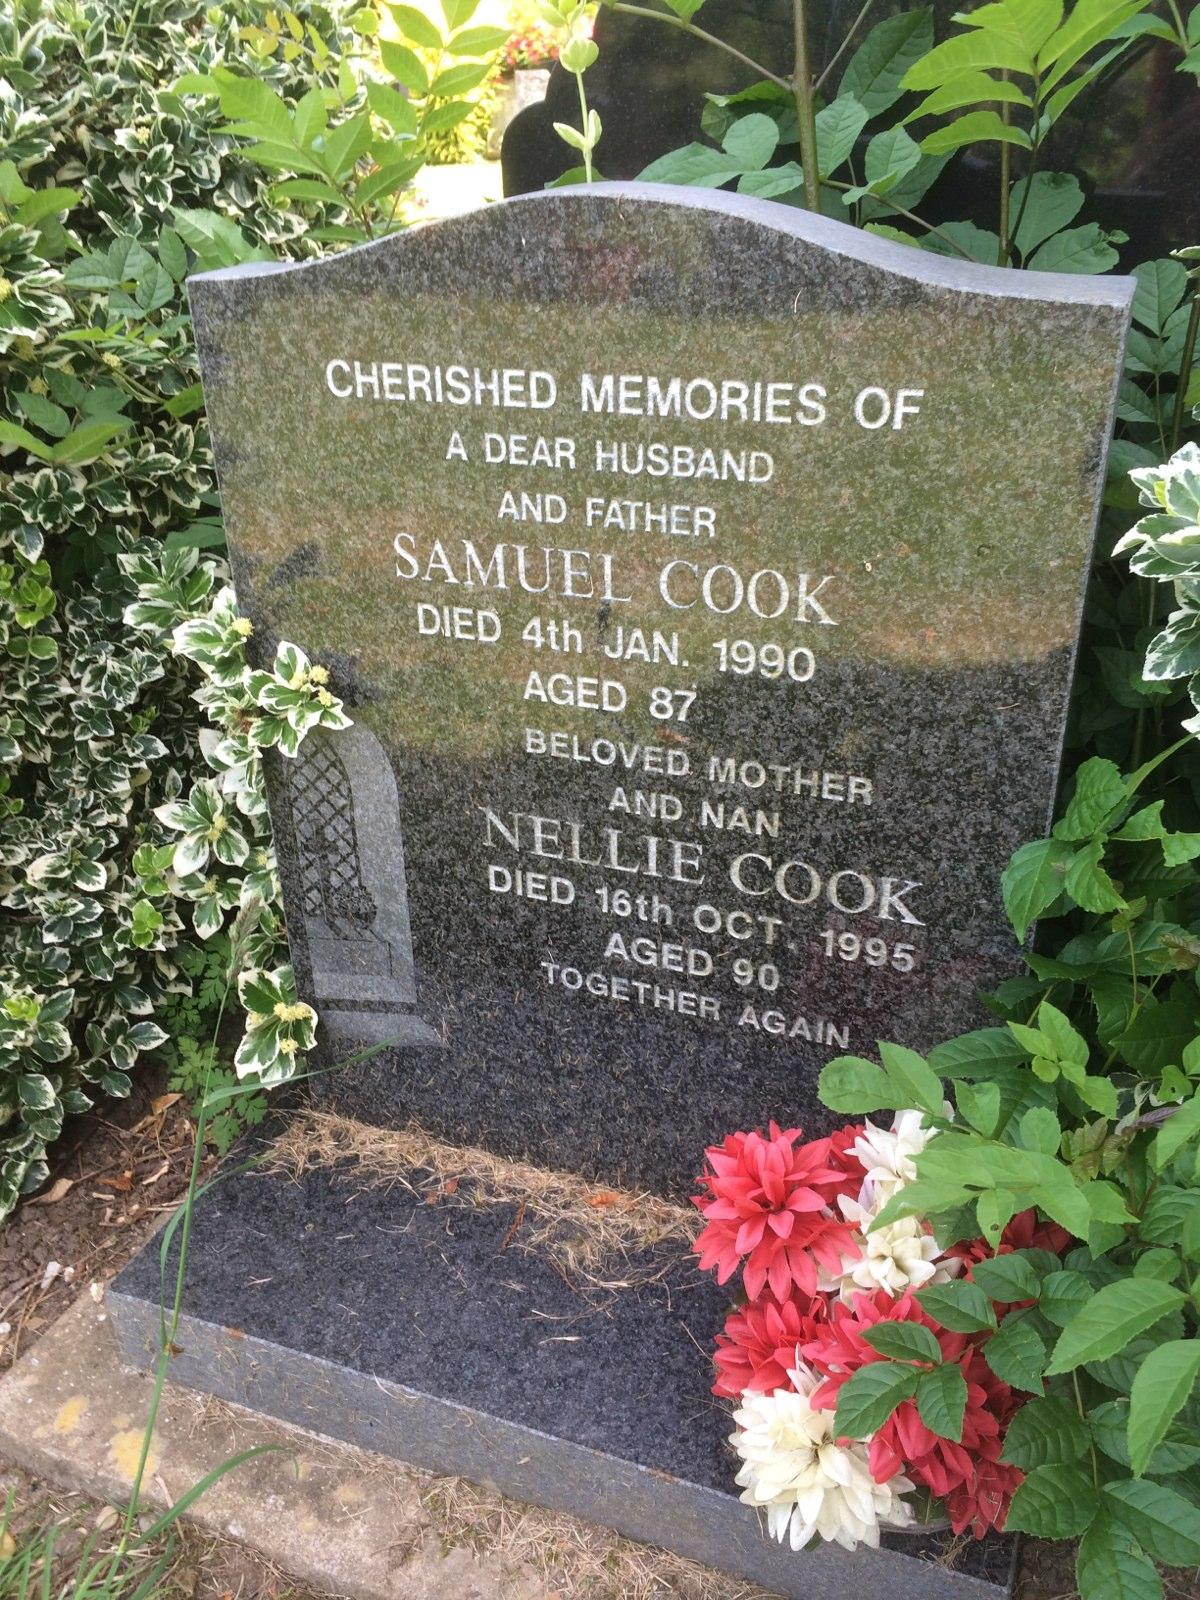upright: (100, 178, 1133, 1597)
